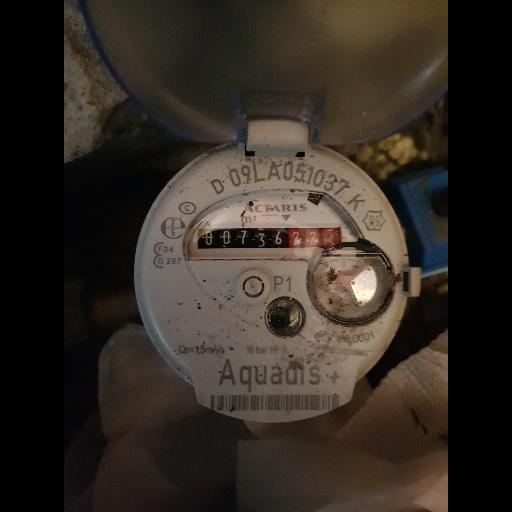0: (199, 228, 218, 249), (217, 228, 235, 248)
2: (305, 228, 323, 249), (289, 228, 305, 248)
3: (254, 228, 272, 248)
6: (323, 228, 342, 249), (271, 228, 289, 248)
7: (235, 228, 254, 248)
border_water_meter_number: (195, 222, 344, 255)
